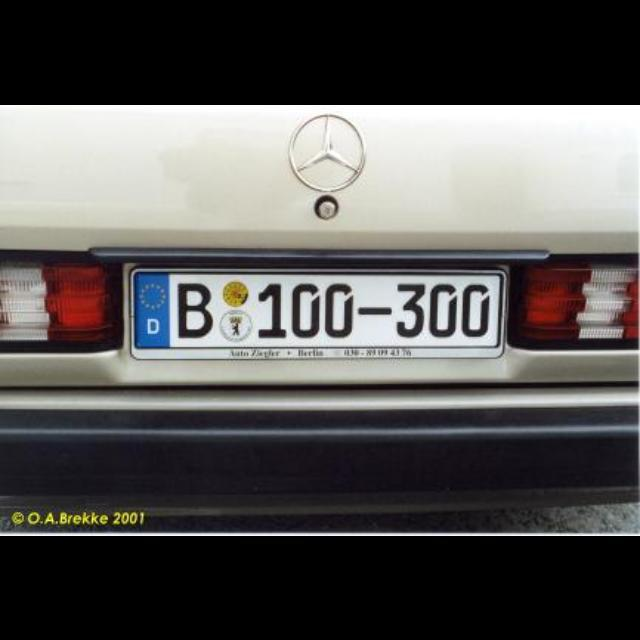license-plates: (131, 269, 506, 360)
